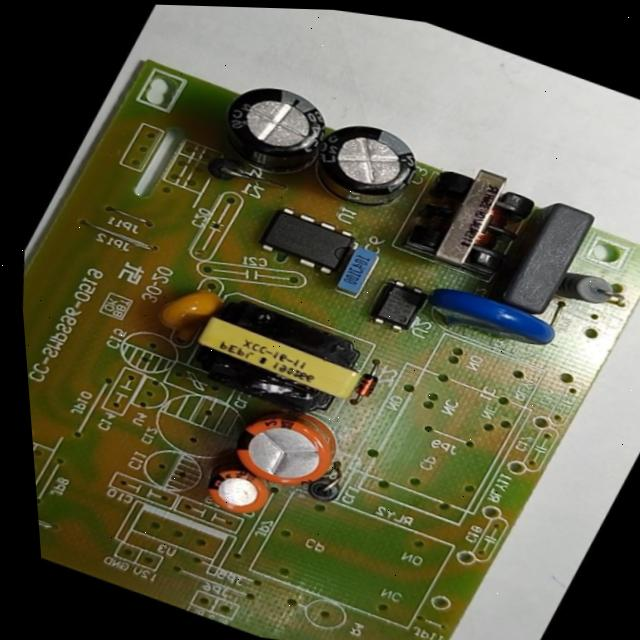Cap1: (205, 386, 364, 506)
Cap2: (189, 455, 285, 526)
Cap3: (287, 102, 449, 226)
Cap4: (189, 67, 354, 197)
MOSFET: (240, 197, 367, 284)
Mov: (400, 267, 573, 368)
Resistor: (546, 259, 631, 321)
Transformer: (159, 278, 393, 435), (380, 142, 560, 291)
